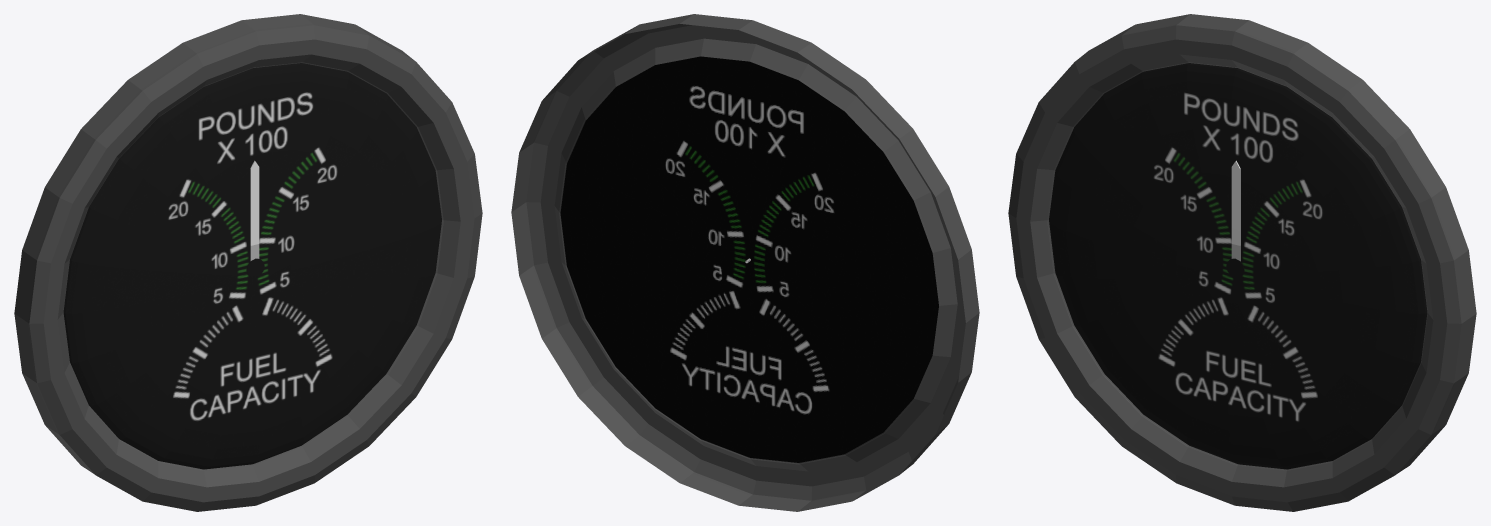
Rendered from Gauge_Fuel.obj.
3 views of the same model, side by side, from view 1: azimuth 30°, elevation 25°; view 2: azimuth 150°, elevation 25°; view 3: azimuth 330°, elevation 25° (orthographic).
Parts seen in each view (by area): view 1: Face, Rim, NeedleMain; view 2: Face, Rim; view 3: Face, Rim, NeedleMain.
Part boxes in pixels (<box>): Face: <box>63,63,441,469</box>; Rim: <box>14,14,482,511</box>; NeedleMain: <box>250,160,259,245</box>; Face: <box>560,56,938,462</box>; Rim: <box>511,14,979,511</box>; Face: <box>1049,63,1427,469</box>; Rim: <box>1008,14,1476,511</box>; NeedleMain: <box>1231,160,1240,245</box>.
Size of the model in its own units: 0.0822 by 0.0822 by 0.00794.
